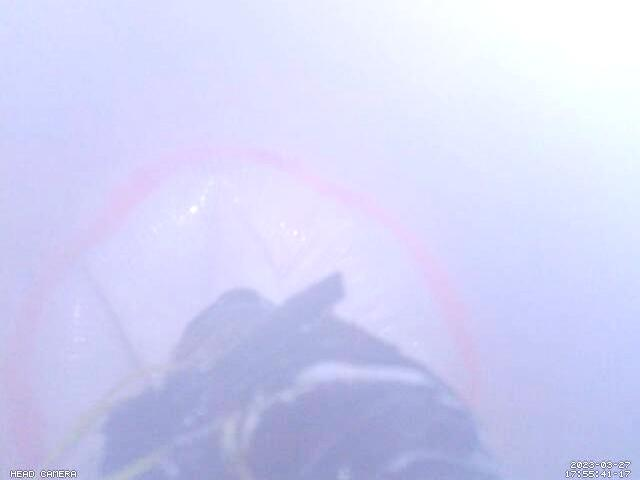head: (0, 142, 483, 480)
